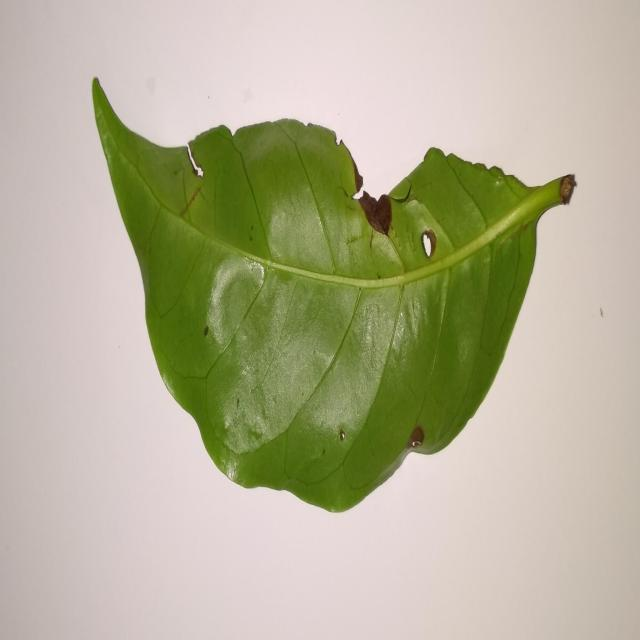phoma: (358, 191, 394, 236), (420, 228, 438, 261), (351, 155, 363, 198), (408, 422, 424, 452)
